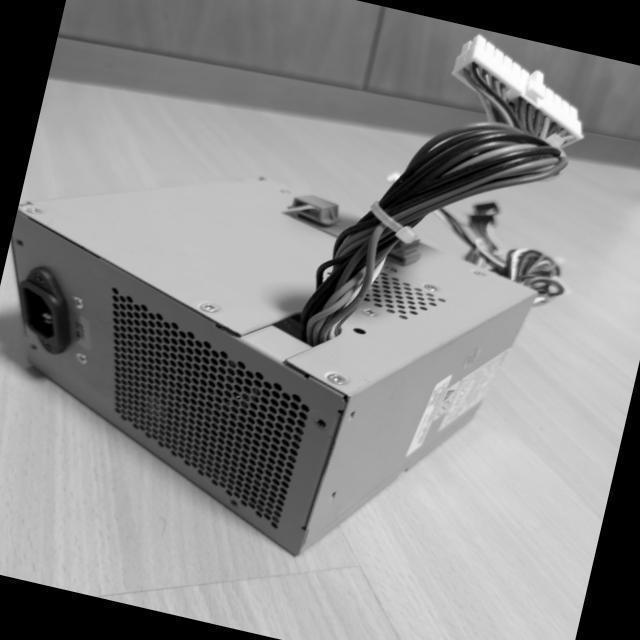PSU: (0, 124, 549, 596)
